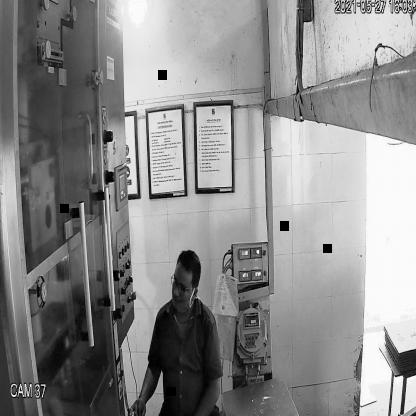goggles: (168, 268, 200, 299)
